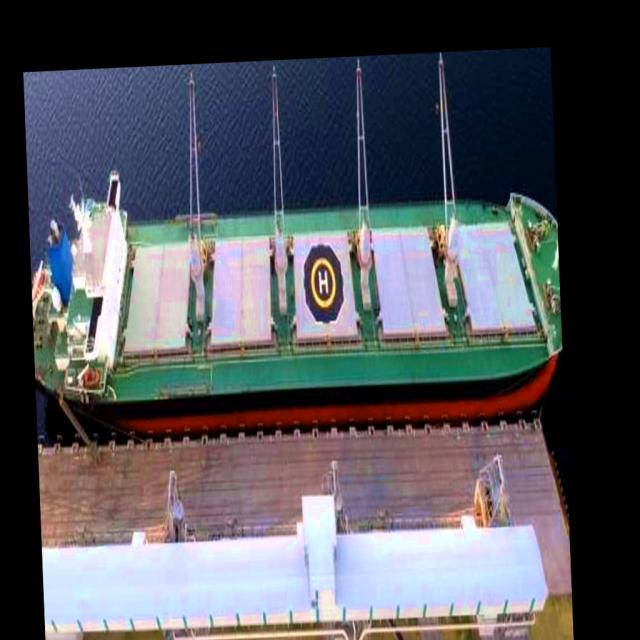helipad: (308, 255, 336, 307)
